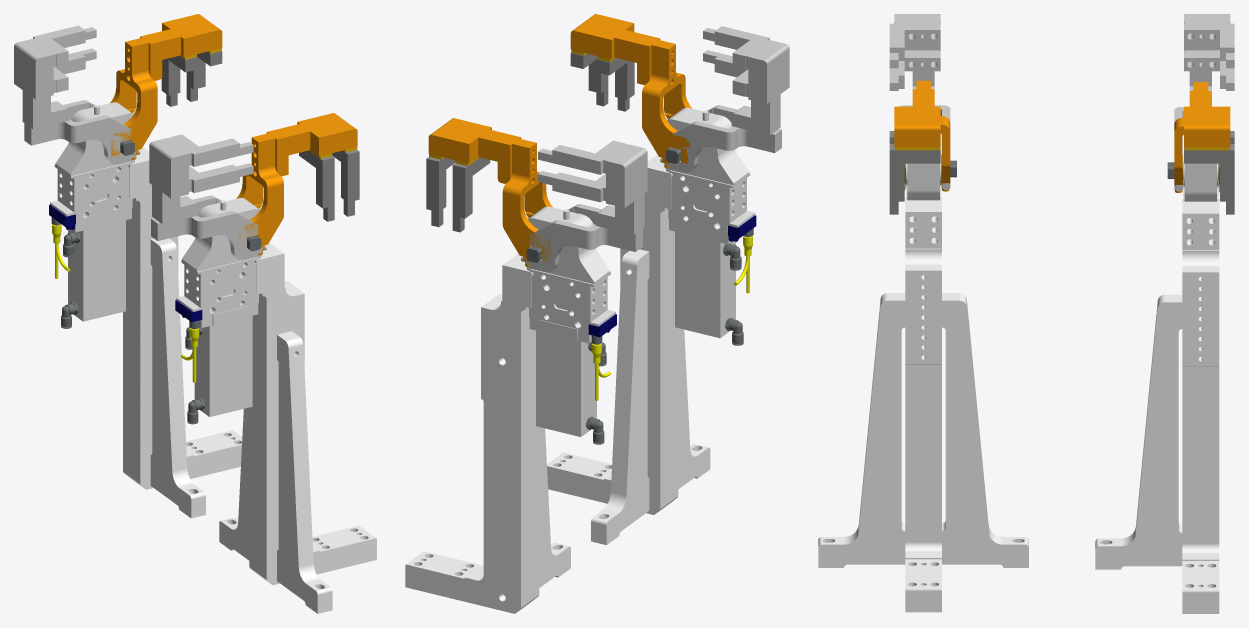
File: 9X_110_GEO_UNIT_112.glb
3 renders of one model, left to right at view 1: azimuth 30°, elevation 25°; view 2: azimuth 150°, elevation 25°; view 3: azimuth 270°, elevation 25°, orthographic. The views are drawn at different scales.
Parts seen in each view (by area): view 1: Ext_01_solid__mesh__mesh (×2), PartBody__mesh__mesh (×3), destaco_8UM504_25_144_sat_solid__mesh__mesh (×4), Ext_01__mesh__mesh (×4), node124__mesh__mesh, node76__mesh__mesh, ANL404_02__mesh__mesh (×4), ANL404_01__mesh__mesh (×4); view 2: Ext_01_solid__mesh__mesh (×2), PartBody__mesh__mesh (×3), destaco_8UM504_25_144_sat_solid__mesh__mesh (×4), Ext_01__mesh__mesh (×4), node76__mesh__mesh, node124__mesh__mesh, ANL404_02__mesh__mesh (×4), ANL404_01__mesh__mesh (×4); view 3: PartBody__mesh__mesh (×3), Ext_01_solid__mesh__mesh (×2), Ext_01__mesh__mesh (×4), ANL404_02__mesh__mesh (×4), ANL404_01__mesh__mesh (×2), destaco_8UM504_25_144_sat_solid__mesh__mesh (×2), node76__mesh__mesh, node124__mesh__mesh.
Boxes of the visible parts, <box> form: Ext_01_solid__mesh__mesh (×2): <box>123,147,376,585</box>; PartBody__mesh__mesh (×3): <box>150,238,332,613</box>; destaco_8UM504_25_144_sat_solid__mesh__mesh (×4): <box>24,38,283,260</box>; Ext_01__mesh__mesh (×4): <box>14,14,357,223</box>; node124__mesh__mesh: <box>176,197,261,416</box>; node76__mesh__mesh: <box>50,102,134,321</box>; ANL404_02__mesh__mesh (×4): <box>33,25,359,216</box>; ANL404_01__mesh__mesh (×4): <box>53,48,334,221</box>; Ext_01_solid__mesh__mesh (×2): <box>405,155,678,613</box>; PartBody__mesh__mesh (×3): <box>539,249,710,587</box>; destaco_8UM504_25_144_sat_solid__mesh__mesh (×4): <box>502,40,781,271</box>; Ext_01__mesh__mesh (×4): <box>428,14,789,234</box>; node76__mesh__mesh: <box>526,206,615,436</box>; node124__mesh__mesh: <box>665,107,755,338</box>; ANL404_02__mesh__mesh (×4): <box>426,26,769,227</box>; ANL404_01__mesh__mesh (×4): <box>452,50,748,232</box>; PartBody__mesh__mesh (×3): <box>818,293,1182,569</box>; Ext_01_solid__mesh__mesh (×2): <box>905,197,1219,613</box>; Ext_01__mesh__mesh (×4): <box>894,14,1230,146</box>; ANL404_02__mesh__mesh (×4): <box>889,23,1234,214</box>; ANL404_01__mesh__mesh (×2): <box>889,51,1234,90</box>; destaco_8UM504_25_144_sat_solid__mesh__mesh (×2): <box>904,80,1219,192</box>; node76__mesh__mesh: <box>1183,153,1218,201</box>; node124__mesh__mesh: <box>906,152,941,200</box>.
Size of the model in its own units: 0.364 by 0.7325 by 0.565.
